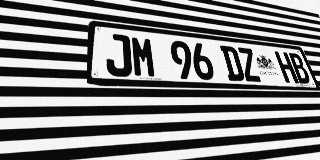6: (189, 42, 216, 80)
9: (169, 40, 196, 79)
B: (287, 53, 312, 84)
D: (220, 45, 246, 81)
H: (274, 51, 299, 83)
J: (105, 33, 132, 77)
M: (130, 36, 157, 78)
Z: (236, 47, 262, 82)
